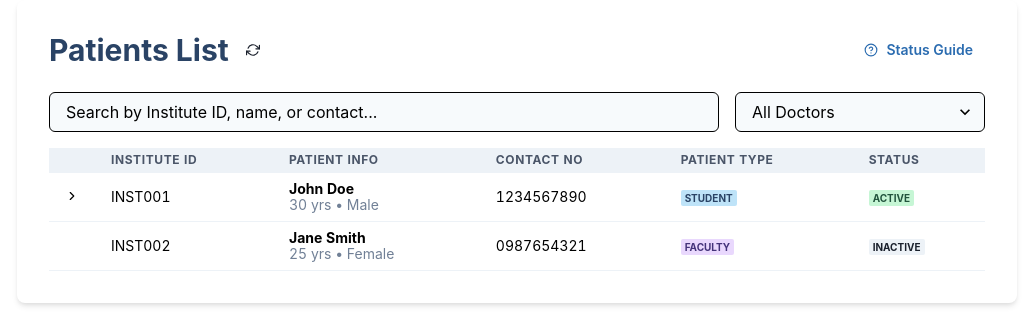
Test: PatientsList Component › filters patients by search input
This screenshot has width=1035, height=324.
Expected: the text "John Doe" is shown, [289,180,354,197]
Type "Jane" into the field with placeholder "Search by Institute ID, name, or contact..." at (384, 112), box [49,92,719,132]
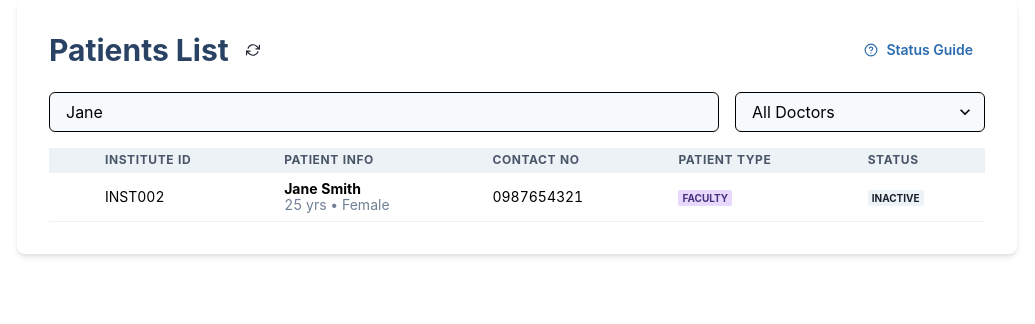
Expected: the text "Jane Smith" is shown, [284,180,361,197]
Result: the text "John Doe" is gone
